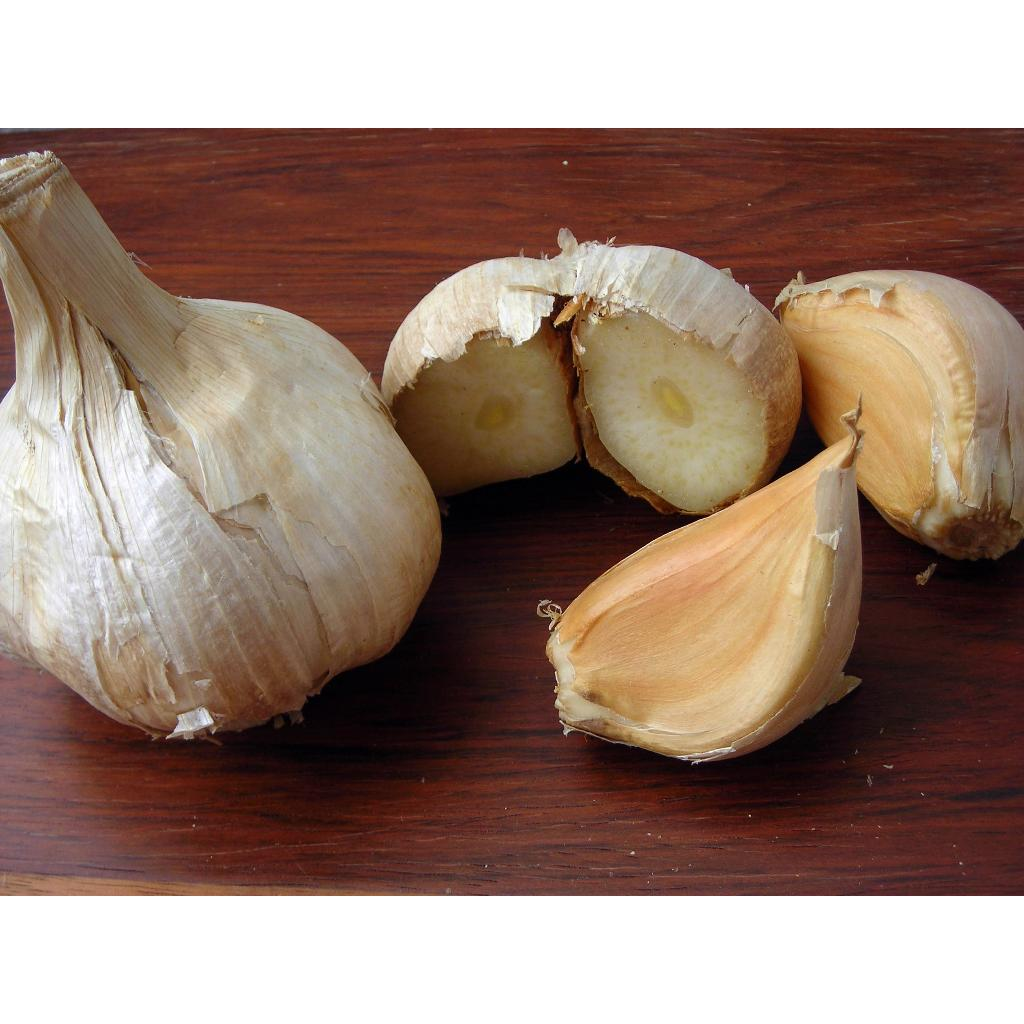garlic: (0, 152, 440, 738), (546, 402, 862, 760), (775, 270, 1023, 559)
